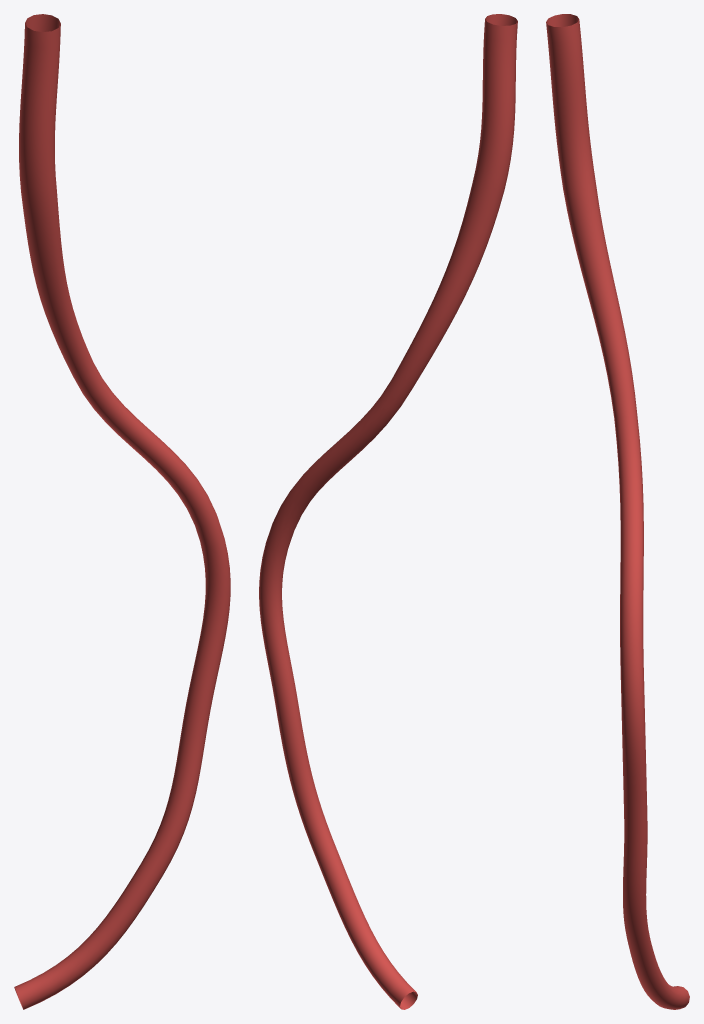
3 renders of one model, left to right at view 1: azimuth 30°, elevation 25°; view 2: azimuth 150°, elevation 25°; view 3: azimuth 270°, elevation 25°, orthographic. The views are drawn at different scales.
Parts seen in each view (by area): view 1: 左侧眼动脉; view 2: 左侧眼动脉; view 3: 左侧眼动脉.
Boxes of the visible parts, x1,y1,x2,y2 form: 左侧眼动脉: (14,14,230,1009); 左侧眼动脉: (259,14,517,1009); 左侧眼动脉: (546,14,689,1009).
Bounding box in the file's own units: 0.0114 × 0.0472 × 0.00634.
